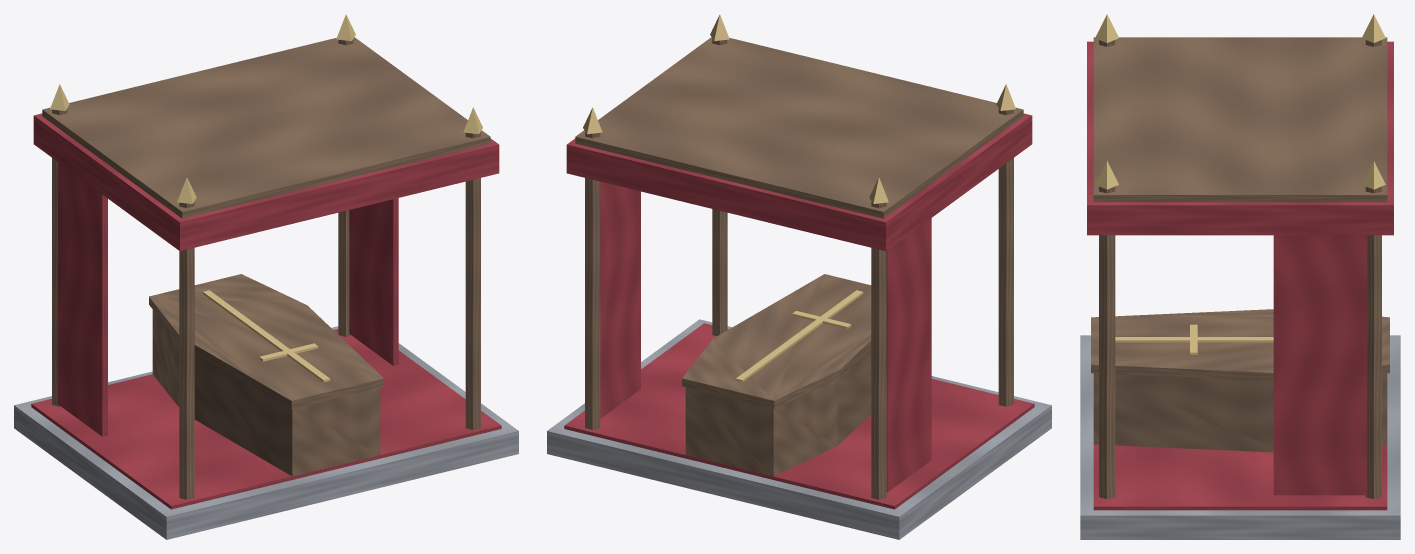
3 views of the same model, side by side, from view 1: azimuth 30°, elevation 25°; view 2: azimuth 150°, elevation 25°; view 3: azimuth 270°, elevation 25° (orthographic). The views are drawn at different scales.
Parts seen in each view (by area): view 1: coffin-bed, coffin-lid/timber, coffin-lid/gold; view 2: coffin-bed, coffin-lid/timber, coffin-lid/gold; view 3: coffin-bed, coffin-lid/timber, coffin-lid/gold.
Part boxes in pixels (left/top/right/bottom): coffin-bed: left=14, top=14, right=518, bottom=539; coffin-lid/timber: left=149, top=274, right=383, bottom=408; coffin-lid/gold: left=202, top=290, right=330, bottom=382; coffin-bed: left=547, top=14, right=1051, bottom=539; coffin-lid/timber: left=682, top=274, right=871, bottom=408; coffin-lid/gold: left=735, top=290, right=863, bottom=382; coffin-bed: left=1080, top=14, right=1400, bottom=539; coffin-lid/timber: left=1091, top=309, right=1389, bottom=381; coffin-lid/gold: left=1115, top=324, right=1273, bottom=354.
Bounding box in the file's own units: 3.2 × 3 × 2.4.
4 materials, 3 textured.
